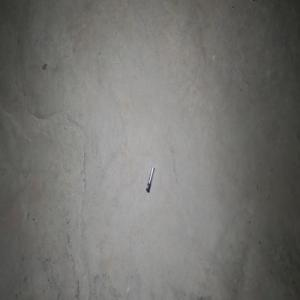Battery: (146, 165, 155, 193)
